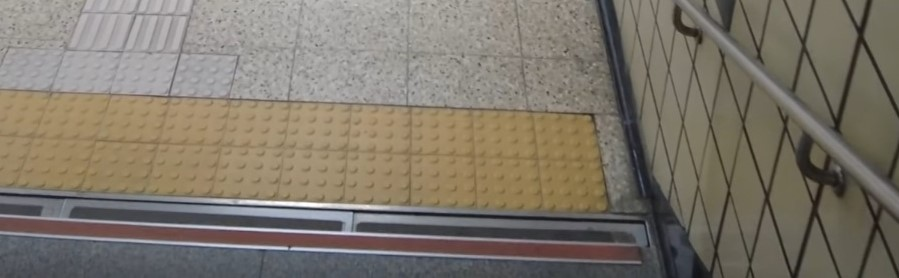guideBlock: (129, 15, 189, 46), (64, 15, 133, 40)
warningBlock: (82, 144, 176, 205), (28, 140, 119, 193), (217, 141, 292, 200), (410, 155, 493, 207), (477, 158, 554, 213), (543, 155, 609, 213), (164, 140, 227, 197), (350, 151, 419, 201), (48, 92, 123, 135), (288, 150, 356, 197), (408, 107, 477, 153), (340, 101, 413, 142), (231, 104, 294, 150), (474, 108, 528, 160), (528, 113, 590, 156), (5, 53, 63, 97), (289, 108, 352, 148), (182, 57, 238, 99), (4, 92, 56, 134), (65, 50, 118, 91), (164, 102, 223, 137), (122, 50, 175, 88), (107, 97, 155, 134)
